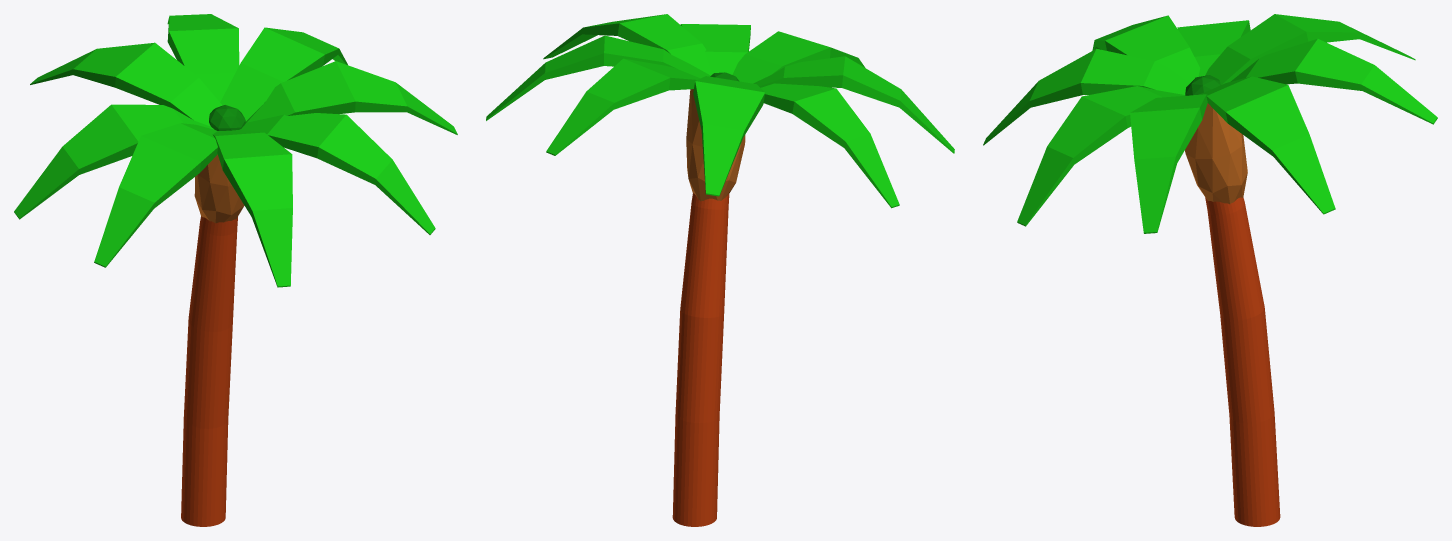
Rendered from palmtree.obj.
3 views of the same model, side by side, from view 1: azimuth 30°, elevation 25°; view 2: azimuth 150°, elevation 25°; view 3: azimuth 270°, elevation 25° (orthographic). The views are drawn at different scales.
Parts seen in each view (by area): view 1: Cube.004_Cube.005; view 2: Cube.004_Cube.005; view 3: Cube.004_Cube.005.
Boxes of the visible parts, box(x1,y1,x2,y2) form: Cube.004_Cube.005: box(14, 14, 457, 526); Cube.004_Cube.005: box(486, 14, 954, 526); Cube.004_Cube.005: box(983, 14, 1437, 526).
Size of the model in its own units: 6.15 by 6.9 by 5.97.
